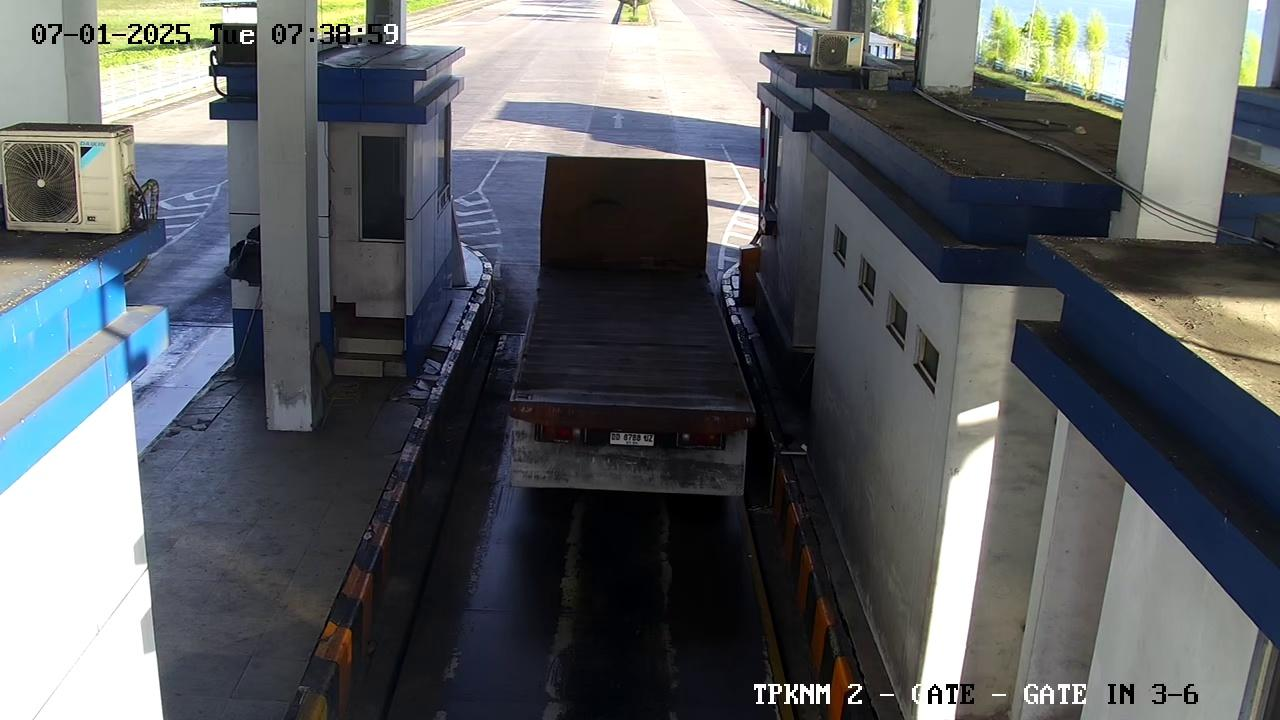plate_number: (601, 427, 661, 455)
